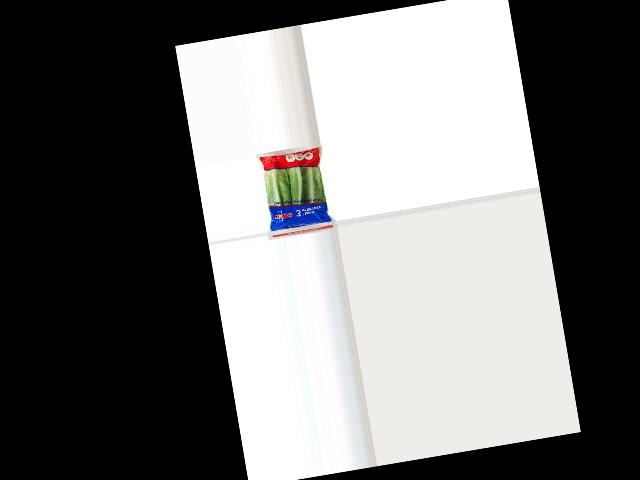lettuce: (254, 144, 333, 235)
